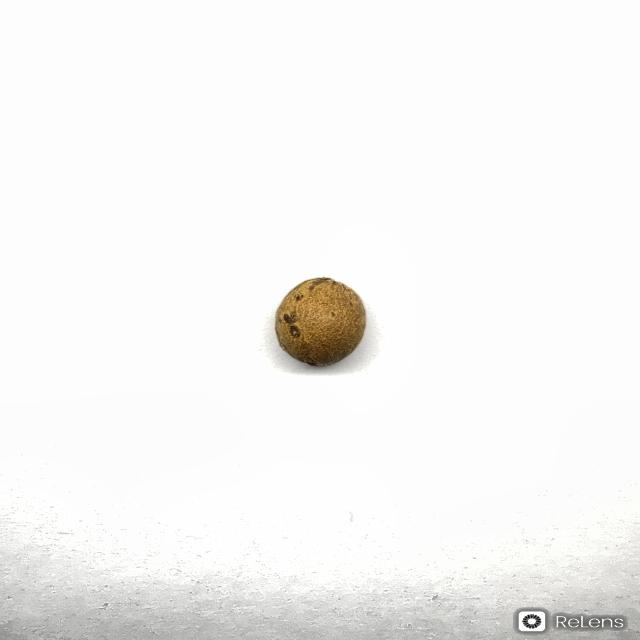Insect damage: (273, 276, 367, 367)
